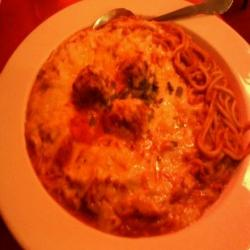bolonese_pasta: (29, 12, 250, 241)
